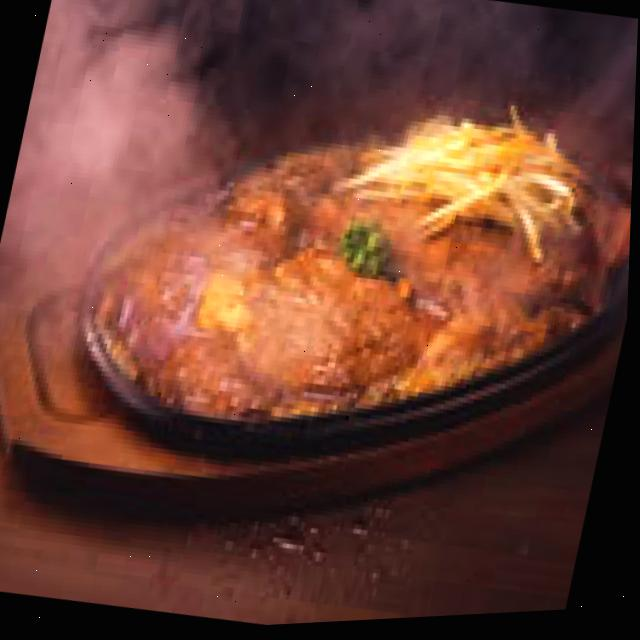牛肉菜式: (199, 208, 470, 436)
